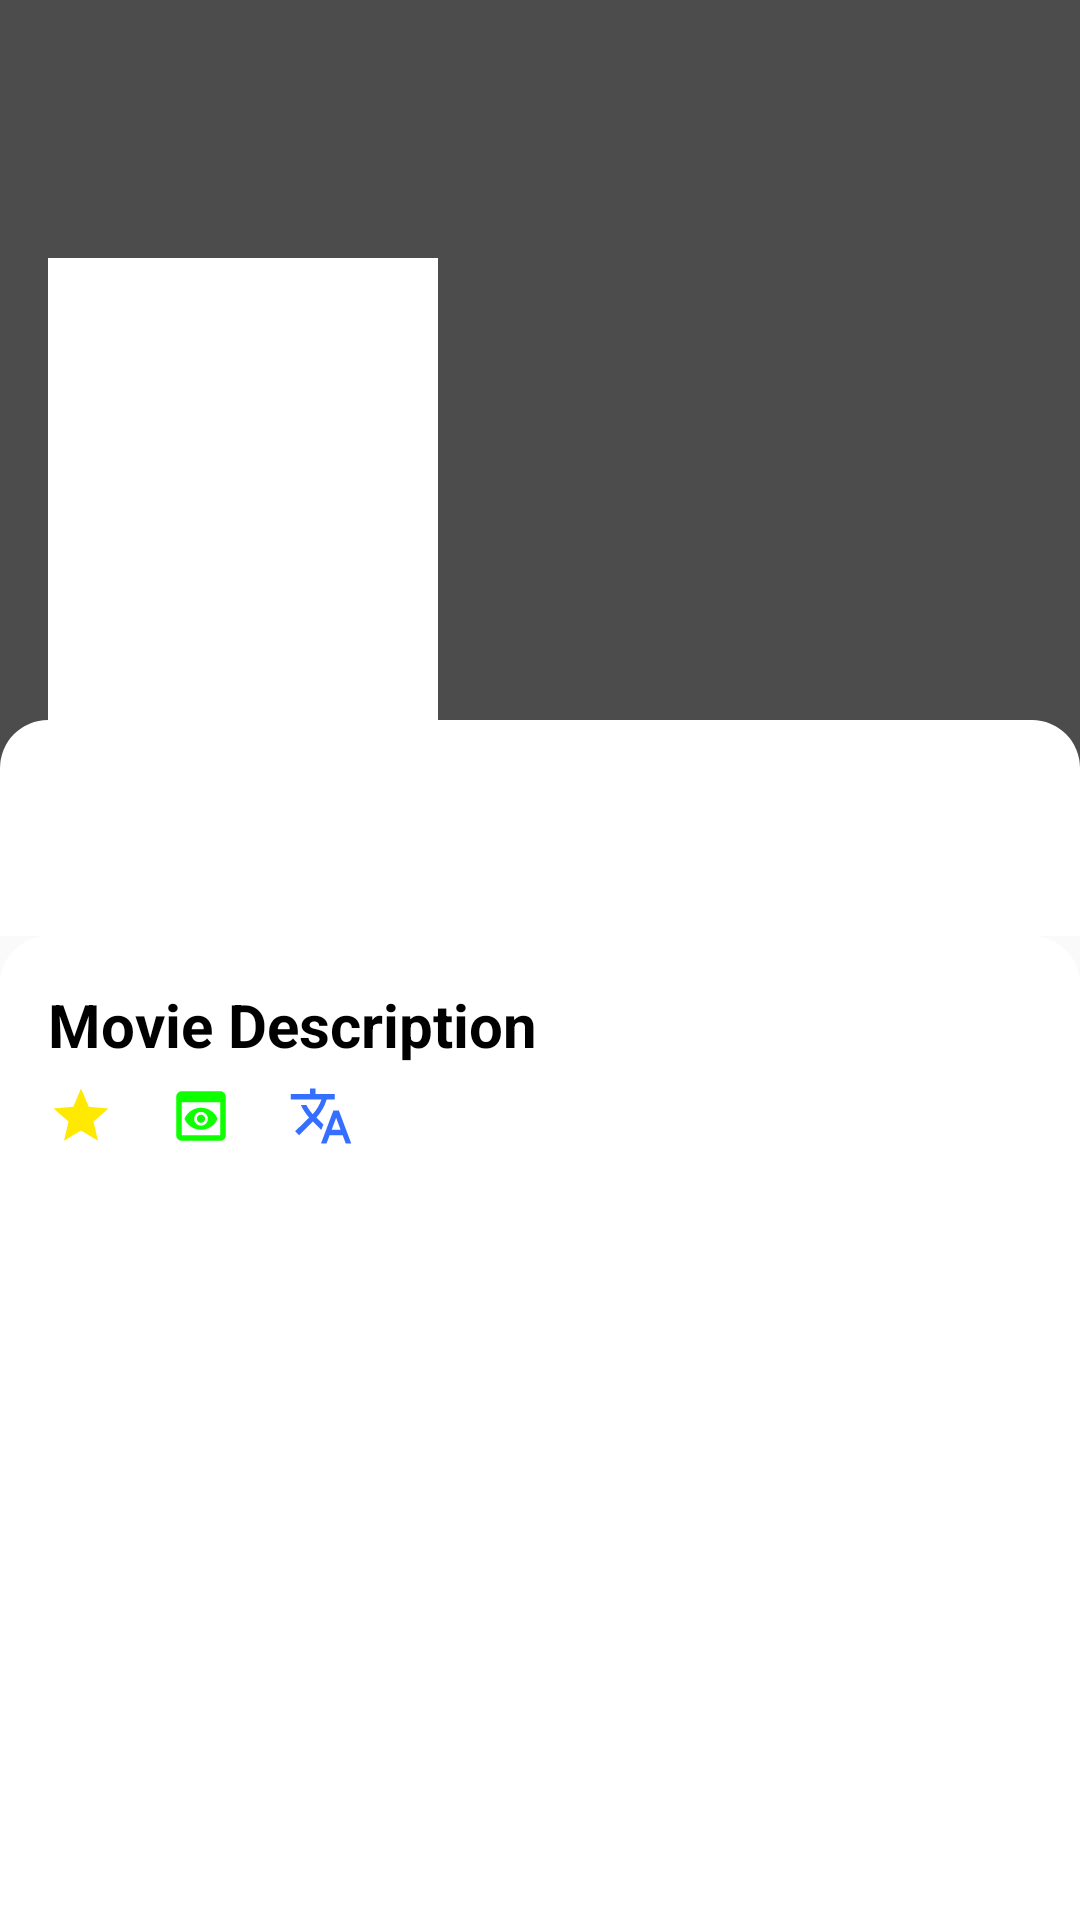

Named icons in this screenshot (1080x1920) and their bounding boxes, {"left": x1, "top": y1, "right": x2, "bottom": y2}:
image star: {"left": 53, "top": 1089, "right": 109, "bottom": 1141}
image translate: {"left": 290, "top": 1088, "right": 351, "bottom": 1144}
image viewer: {"left": 176, "top": 1091, "right": 226, "bottom": 1141}
